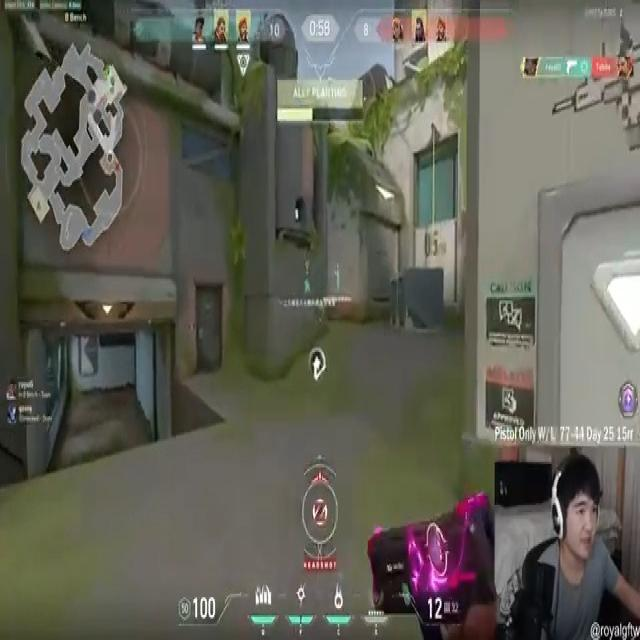ally behind wall: (334, 266, 342, 296), (304, 278, 310, 296)
orb: (309, 347, 326, 381)
